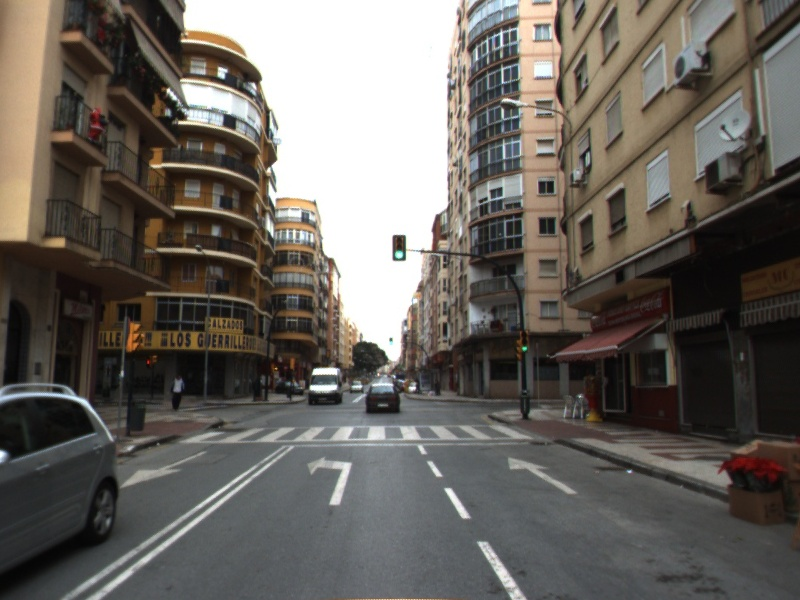LEFT: (305, 454, 354, 507)
STRAIGHT: (506, 455, 579, 496)
